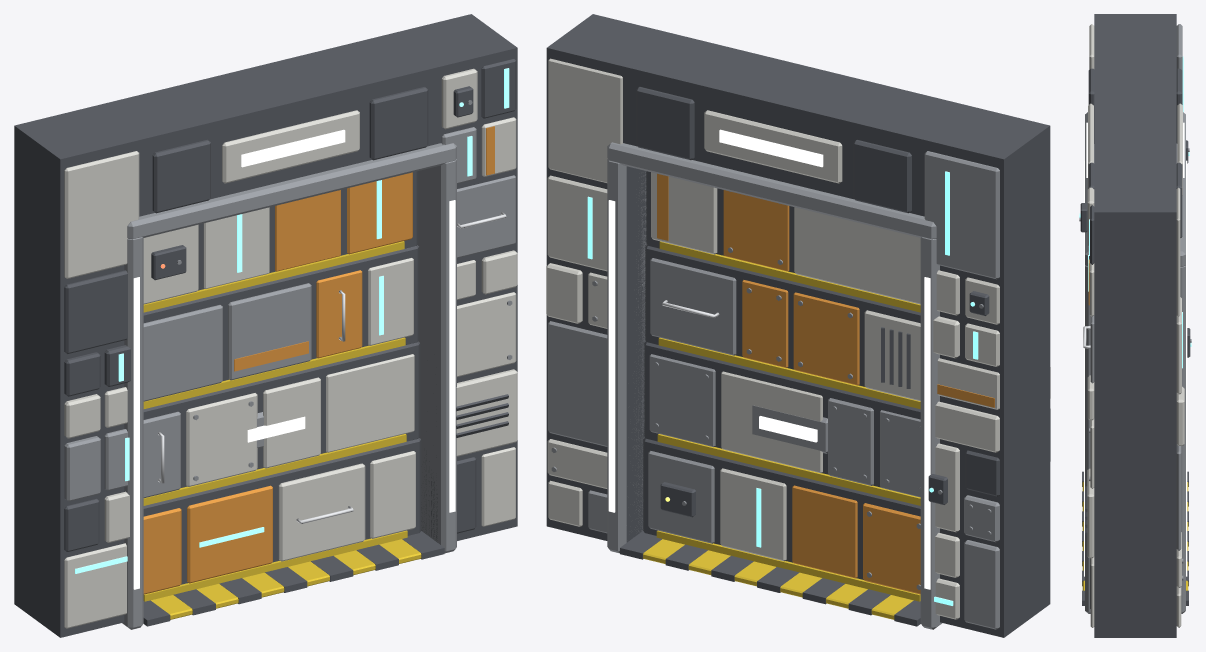
Rendered from door_rise.glb.
3 renders of one model, left to right at view 1: azimuth 30°, elevation 25°; view 2: azimuth 150°, elevation 25°; view 3: azimuth 270°, elevation 25°, orthographic. The views are drawn at different scales.
Parts seen in each view (by area): view 1: frame, slat1, slat2, slat0, slat3; view 2: frame, slat1, slat0, slat2, slat3; view 3: frame.
Boxes of the visible parts, x1,y1,x2,y2 form: frame: (14, 14, 517, 637); slat1: (143, 341, 420, 505); slat2: (143, 245, 419, 408); slat0: (143, 438, 421, 601); slat3: (143, 171, 418, 312); frame: (546, 14, 1050, 637); slat1: (644, 341, 920, 505); slat0: (643, 438, 920, 601); slat2: (645, 245, 920, 409); slat3: (646, 171, 920, 312); frame: (1079, 14, 1191, 637).
Bounding box in the file's own units: 4 × 4.05 × 0.9593.
